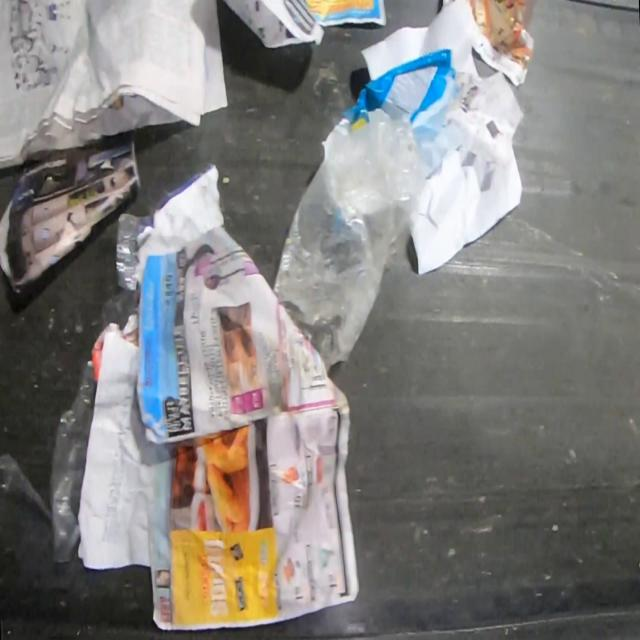soft_plastic: (273, 109, 426, 364), (0, 360, 96, 561), (344, 48, 463, 183), (100, 212, 150, 328)
